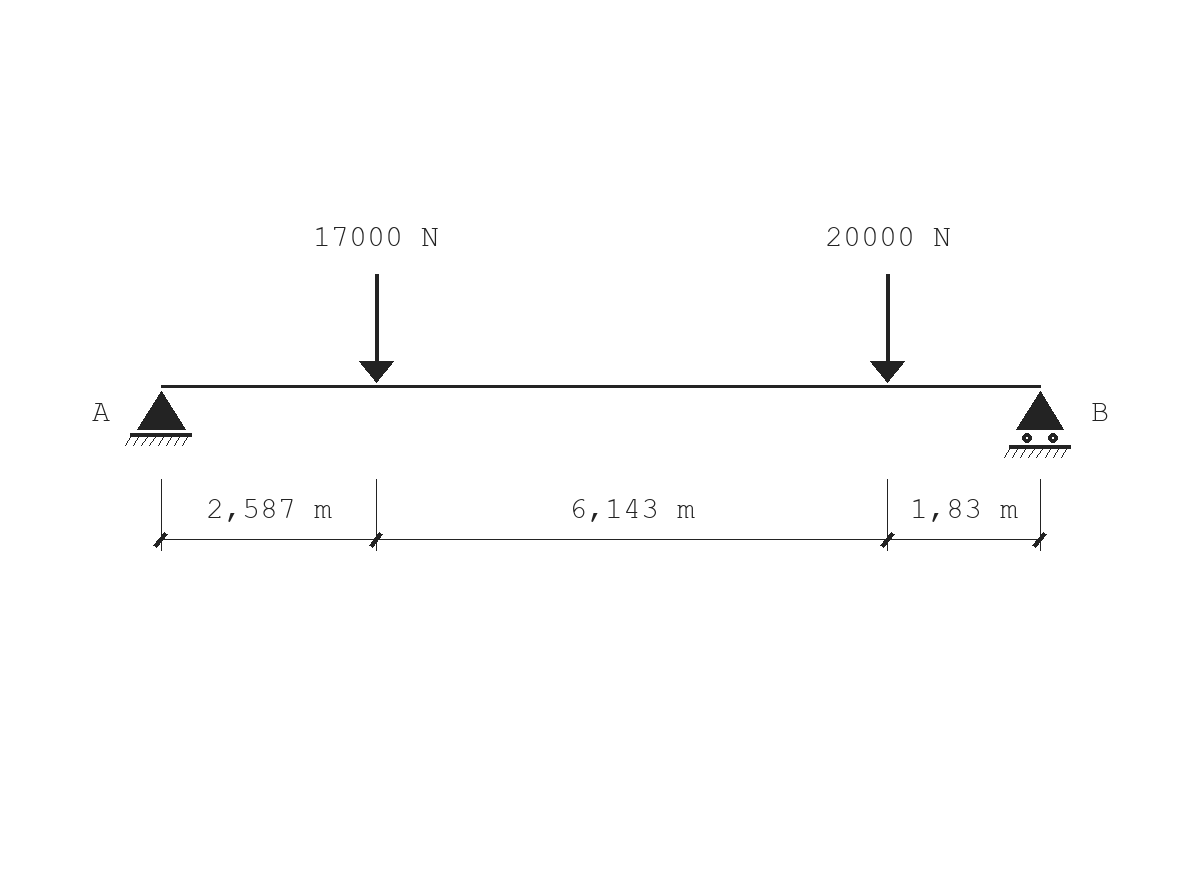pin_support: (125, 391, 192, 446)
point_load: (359, 274, 394, 383), (870, 274, 905, 383)
roller_support: (1004, 391, 1071, 458)
